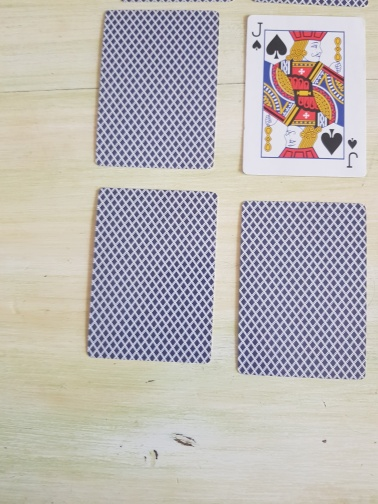jack: (241, 14, 368, 178)
